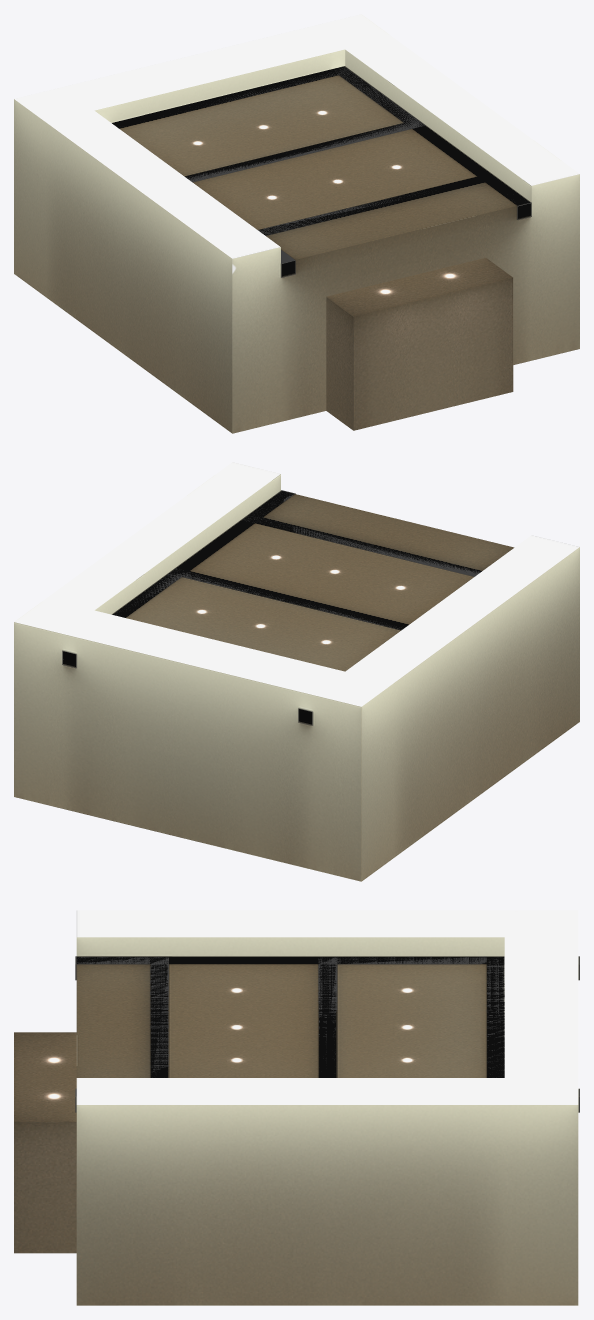
The model's file is gallery_space.glb.
3 views of the same model, one above another, from view 1: azimuth 30°, elevation 25°; view 2: azimuth 150°, elevation 25°; view 3: azimuth 270°, elevation 25° (orthographic). The views are drawn at different scales.
Parts seen in each view (by area): view 1: Material-material; view 2: Material-material; view 3: Material-material.
Boxes of the visible parts, x1,y1,x2,y2 form: Material-material: (14,14,579,433); Material-material: (14,462,579,881); Material-material: (14,910,579,1305).
Size of the model in its own units: 10.17 by 4.89 by 12.49.
2 materials, 1 textured.
